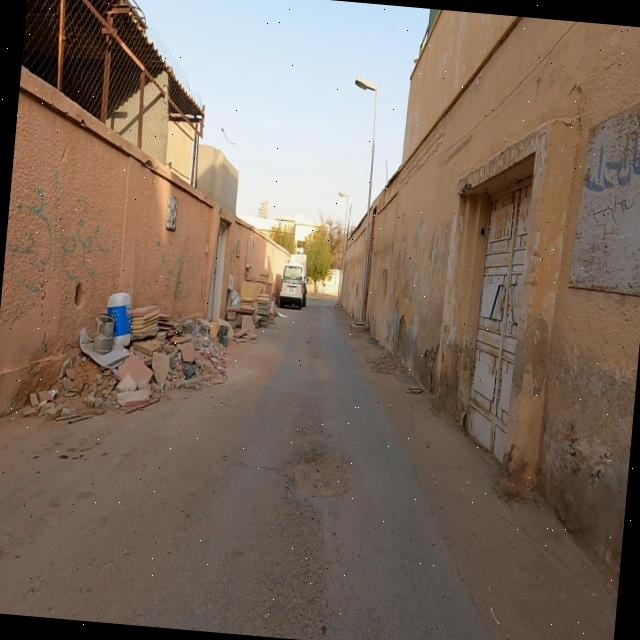Graffiti: (4, 168, 119, 286), (146, 236, 205, 301), (228, 245, 237, 271)
